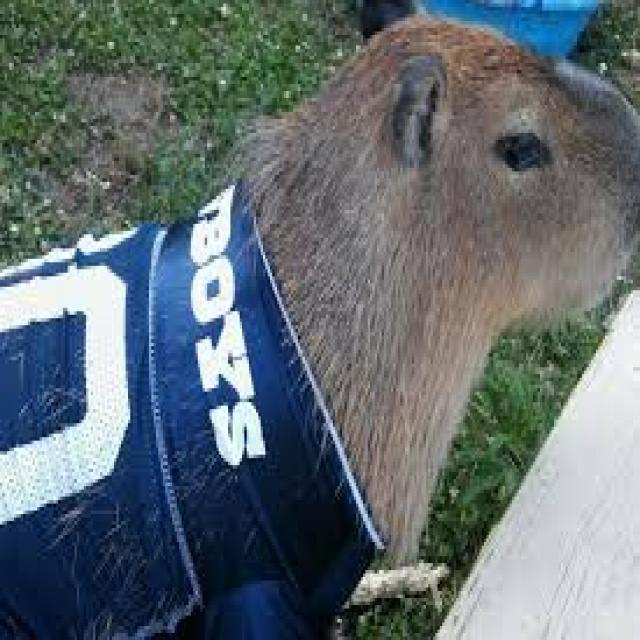capy: (216, 2, 640, 580)
